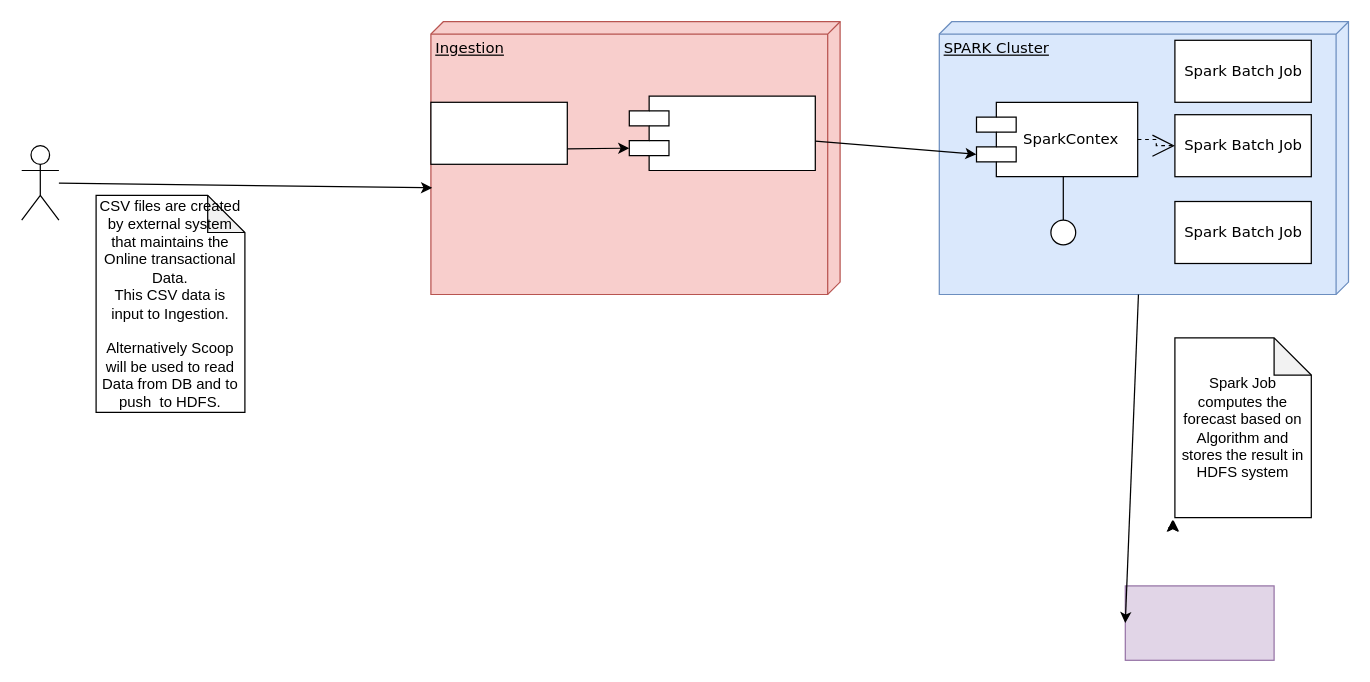
Image size: 1370x682. Some labels were removed from this diagram. Here are the shapes that lost their labels. From the top down, the centre of each, then its label:
At pixel 498 132: "RDBMS/CSV files".
At pixel 721 132: "Sqoop/Ingestion".
At pixel 39 182: "Actor".
At pixel 1199 622: "Analytical System".
